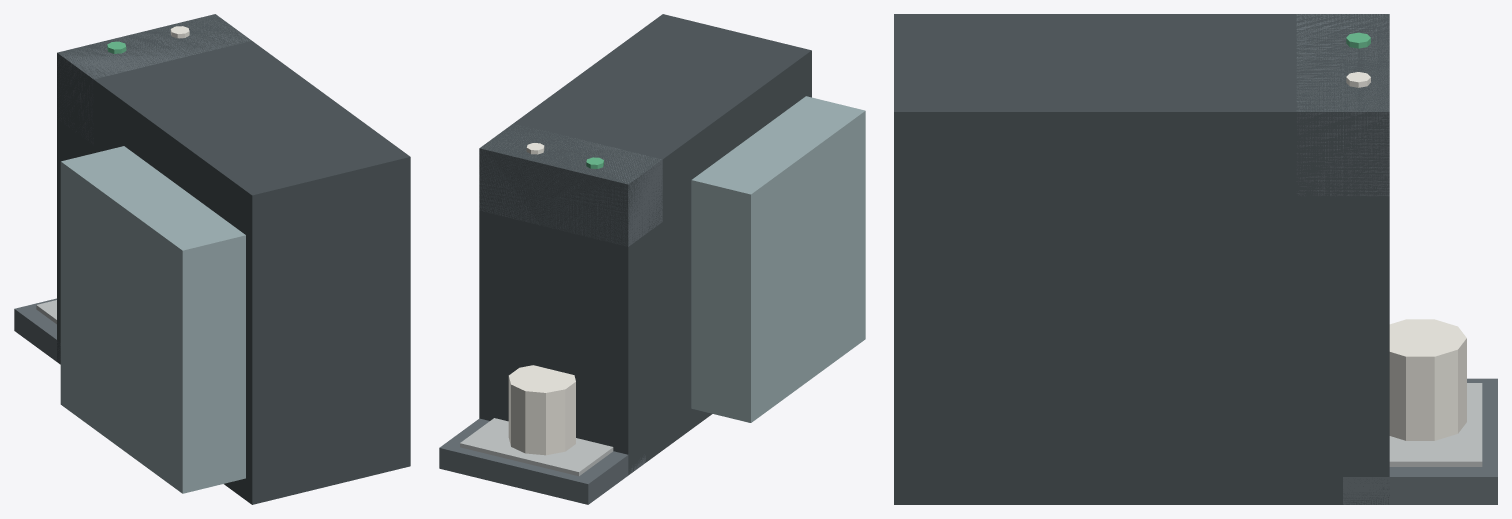
File: coffee_machine.fbx
3 renders of one model, left to right at view 1: azimuth 30°, elevation 25°; view 2: azimuth 150°, elevation 25°; view 3: azimuth 270°, elevation 25°, orthographic. The views are drawn at different scales.
Parts seen in each view (by area): view 1: coffee_machine; view 2: coffee_machine; view 3: coffee_machine.
Part boxes in pixels (x1=…): coffee_machine: x1=14, y1=14, x2=410, y2=504; coffee_machine: x1=439, y1=14, x2=865, y2=504; coffee_machine: x1=894, y1=14, x2=1497, y2=504.
Size of the model in its own units: 21 by 28.4 by 39.
